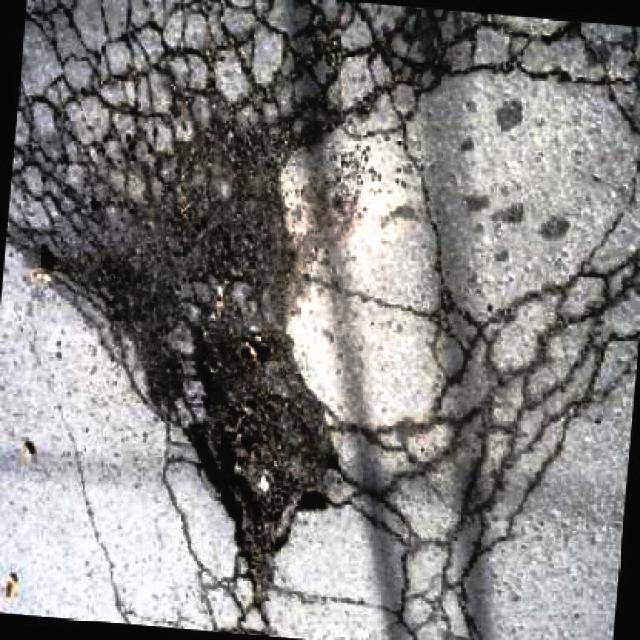pothole: (34, 119, 340, 598)
